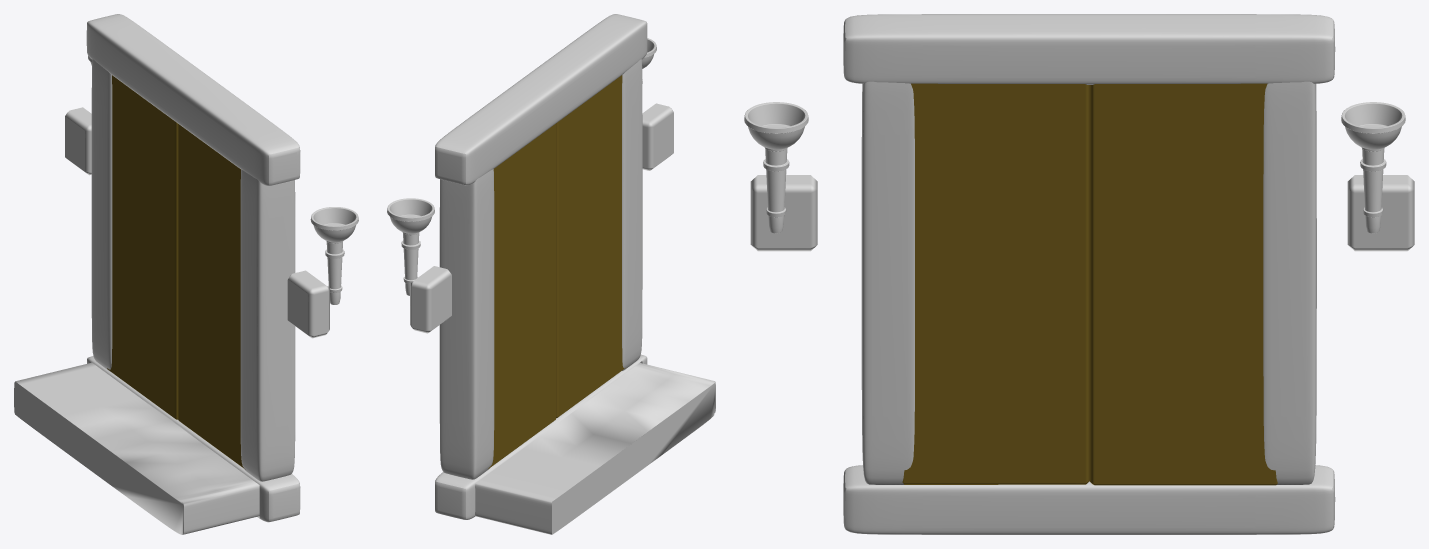
Rendered from Door.2024.05.15.fbx.
The picture shows the model from 3 angles, left to right: view 1: azimuth 30°, elevation 25°; view 2: azimuth 150°, elevation 25°; view 3: azimuth 270°, elevation 25°; orthographic projection. The views are drawn at different scales.
Visible parts, largest first — view 1: Door, InnerDoor2, InnerDoor1, Cube.017, Torch.007, Cube.016; view 2: Door, InnerDoor1, InnerDoor2, Cube.016, Torch.006, Cube.017; view 3: Door, InnerDoor1, InnerDoor2, Cube.016, Cube.017, Torch.006, Torch.007.
Boxes of the visible parts, bbox=[...] form: Door: bbox=[14, 14, 300, 534]; InnerDoor2: bbox=[107, 75, 178, 419]; InnerDoor1: bbox=[178, 124, 245, 469]; Cube.017: bbox=[287, 270, 329, 338]; Torch.007: bbox=[310, 207, 358, 304]; Cube.016: bbox=[65, 107, 91, 175]; Door: bbox=[435, 14, 715, 534]; InnerDoor1: bbox=[556, 75, 624, 418]; InnerDoor2: bbox=[488, 124, 555, 468]; Cube.016: bbox=[410, 266, 451, 333]; Torch.006: bbox=[387, 198, 434, 295]; Cube.017: bbox=[642, 103, 673, 170]; Door: bbox=[843, 14, 1335, 534]; InnerDoor1: bbox=[902, 83, 1089, 484]; InnerDoor2: bbox=[1090, 83, 1277, 485]; Cube.016: bbox=[1347, 175, 1414, 251]; Cube.017: bbox=[750, 175, 817, 251]; Torch.006: bbox=[1341, 102, 1405, 233]; Torch.007: bbox=[744, 102, 808, 233].
Size of the model in its own units: 0.9239 by 2.35 by 2.85.
